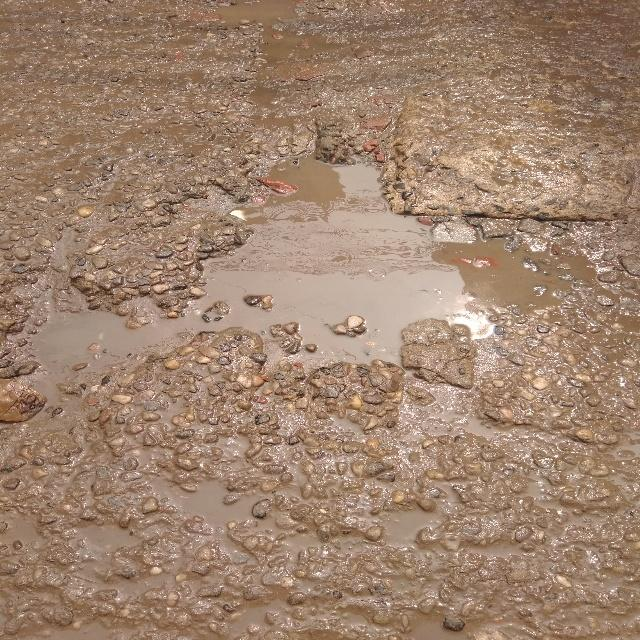Pothole: (217, 141, 499, 297)
Surface Erosion: (25, 22, 640, 611)
